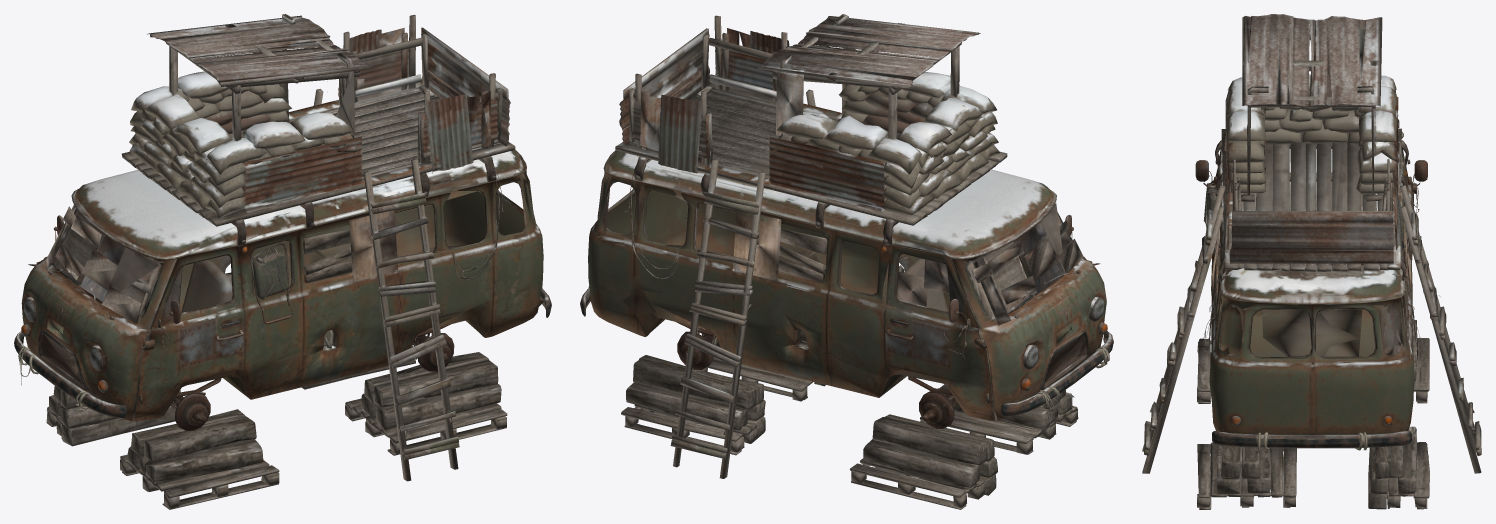
File: jt_van_ladder.glb
The picture shows the model from 3 angles, left to right: view 1: azimuth 30°, elevation 25°; view 2: azimuth 150°, elevation 25°; view 3: azimuth 270°, elevation 25°; orthographic projection. The views are drawn at different scales.
Size of the model in its own units: 0.9541 by 0.769 by 0.6299.
1 material, 1 textured.
